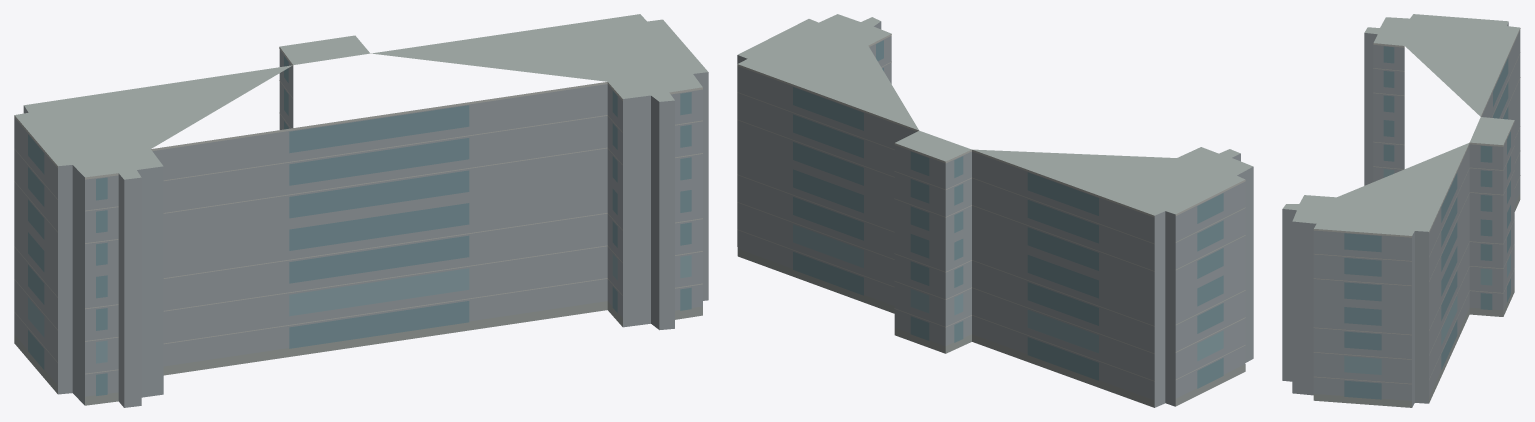
Rendered from survey-upis-32794728.glb.
3 renders of one model, left to right at view 1: azimuth 30°, elevation 25°; view 2: azimuth 150°, elevation 25°; view 3: azimuth 270°, elevation 25°, orthographic. The views are drawn at different scales.
Visible parts, largest first — view 1: survey-upis-32794728.tmp; view 2: survey-upis-32794728.tmp; view 3: survey-upis-32794728.tmp.
Boxes of the visible parts, box(x1,y1,x2,y2) form: survey-upis-32794728.tmp: box(14, 14, 708, 407); survey-upis-32794728.tmp: box(737, 14, 1253, 407); survey-upis-32794728.tmp: box(1282, 14, 1520, 407).
Bounding box in the file's own units: 68.99 × 24.9 × 31.24.
